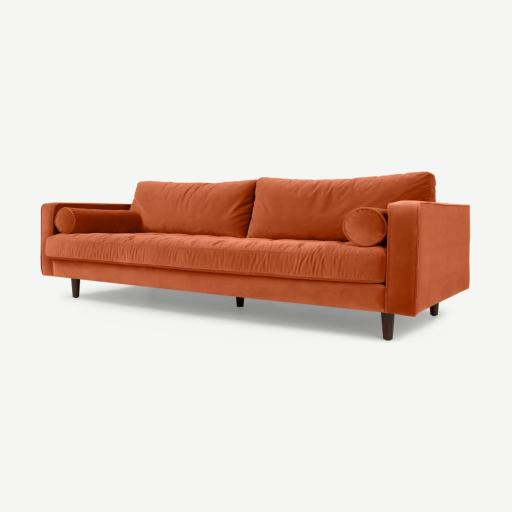back_cushion: (132, 173, 434, 241)
base: (54, 260, 384, 311)
left_arm: (384, 201, 469, 315)
legs: (382, 313, 394, 340), (72, 278, 80, 298), (431, 304, 438, 314), (236, 297, 243, 307)
right_arm: (41, 202, 129, 275)
seat_cushion: (44, 233, 386, 283)
two-seater: (0, 0, 511, 512)
